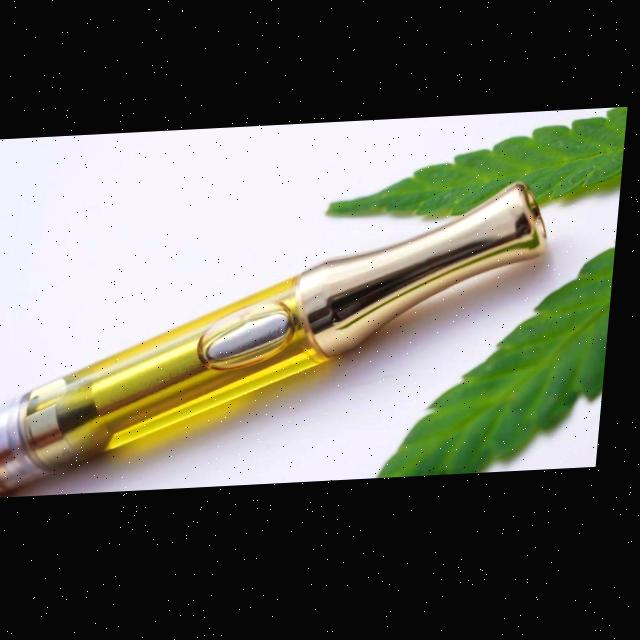vape: (0, 185, 557, 500)
